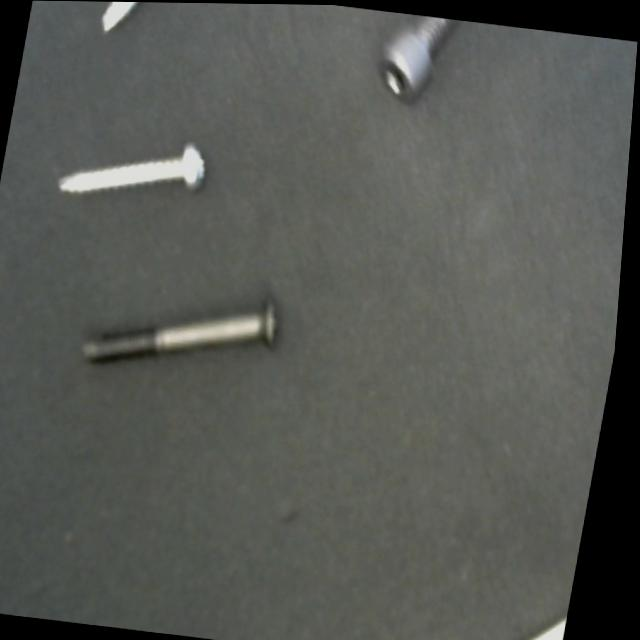FlatHeadSocketScrew: (76, 269, 294, 393)
SheetMetalScrew: (50, 120, 221, 227)
SocketHeadCapScrew: (366, 9, 469, 124)
WoodScrew: (92, 1, 165, 49)
